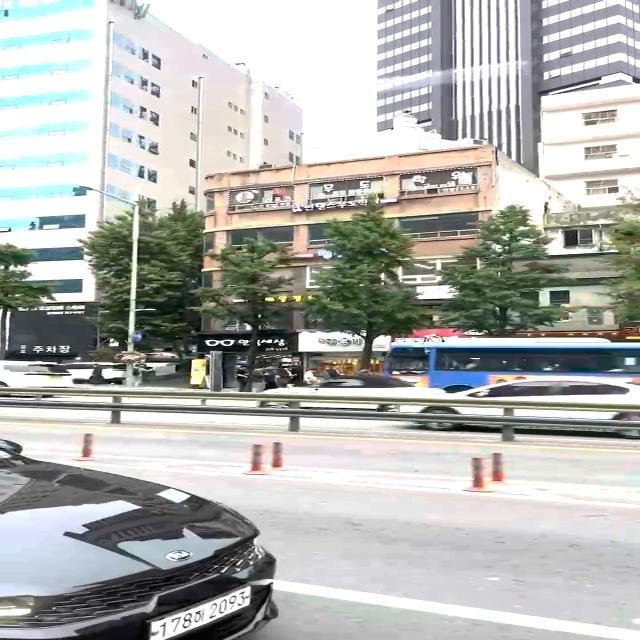building: (0, 0, 303, 364)
car: (0, 439, 278, 639), (379, 330, 640, 393), (399, 376, 639, 438), (259, 374, 449, 412)
